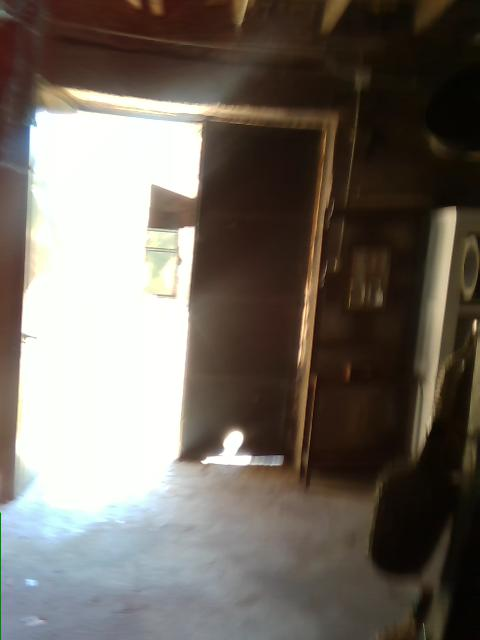open_door: (11, 92, 201, 466)
